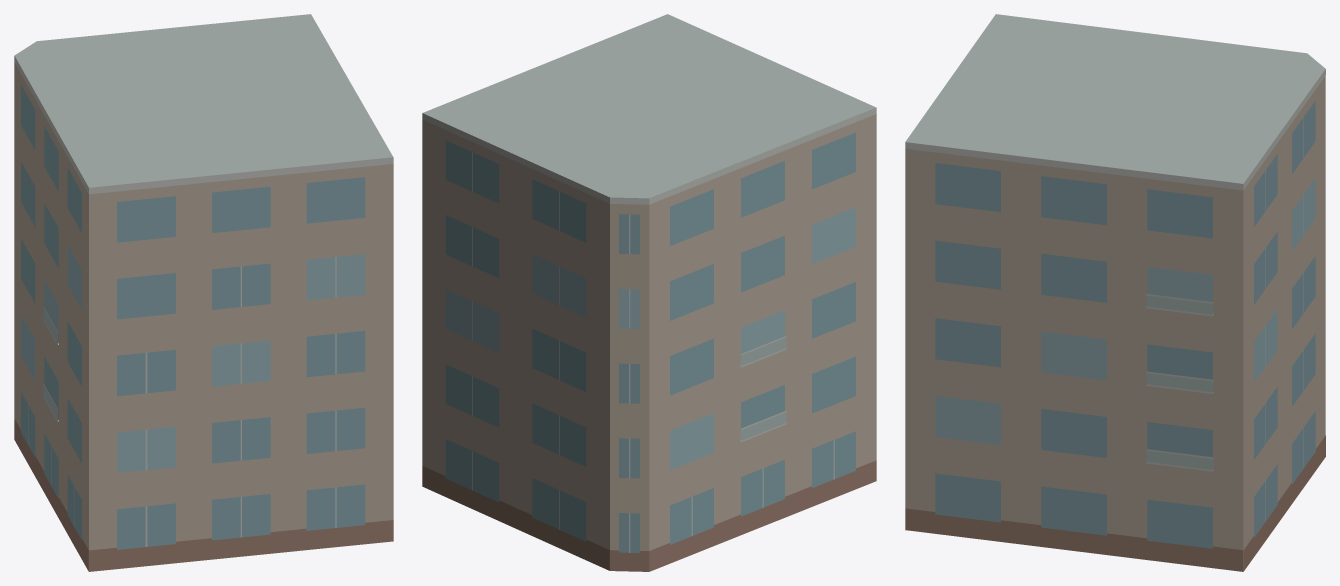
File: survey-upis-32946330.glb
3 views of the same model, side by side, from view 1: azimuth 30°, elevation 25°; view 2: azimuth 150°, elevation 25°; view 3: azimuth 270°, elevation 25° (orthographic). The views are drawn at different scales.
Visible parts, largest first — view 1: survey-upis-32946330.tmp; view 2: survey-upis-32946330.tmp; view 3: survey-upis-32946330.tmp.
Part boxes in pixels (x1,y1,x2,y2): survey-upis-32946330.tmp: (14,14,393,571); survey-upis-32946330.tmp: (422,14,876,571); survey-upis-32946330.tmp: (905,14,1325,571).
Bounding box in the file's own units: 13.44 × 14.3 × 14.06.
